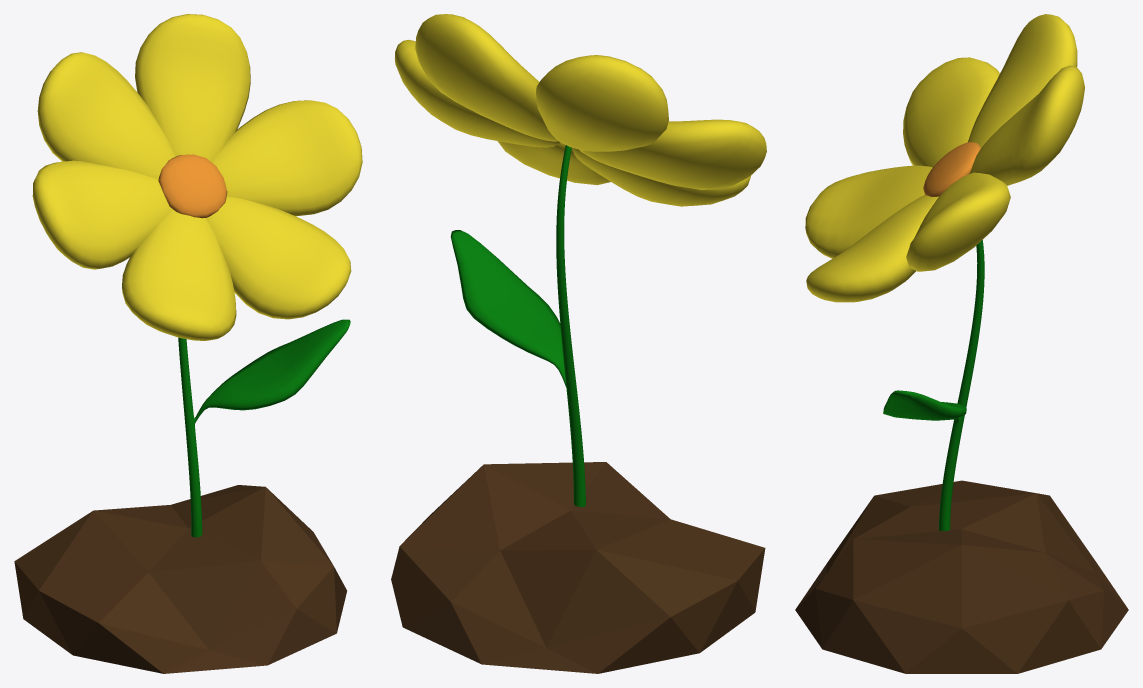
The model's file is ccek.fbx.
3 renders of one model, left to right at view 1: azimuth 30°, elevation 25°; view 2: azimuth 150°, elevation 25°; view 3: azimuth 270°, elevation 25°, orthographic. The views are drawn at different scales.
Visible parts, largest first — view 1: Icosphere, Cube.004, Cube.001, Cube.002, Cube.003, Cube.005, Cube, BezierCurve, Cube.006; view 2: Icosphere, BezierCurve, Cube.003, Cube.001, Cube, Cube.004, Cube.005, Cube.002; view 3: Icosphere, Cube.001, Cube, Cube.005, Cube.002, Cube.004, Cube.003, BezierCurve, Cube.006.
Boxes of the visible parts, x1,y1,x2,y2 form: Icosphere: (14, 485, 346, 673); Cube.004: (212, 100, 362, 216); Cube.001: (135, 14, 250, 162); Cube.002: (206, 196, 351, 319); Cube.003: (37, 52, 175, 179); Cube.005: (122, 209, 236, 340); Cube: (32, 160, 172, 269); BezierCurve: (178, 319, 350, 537); Cube.006: (158, 154, 227, 218); Icosphere: (391, 462, 765, 673); BezierCurve: (450, 145, 585, 506); Cube.003: (536, 55, 668, 151); Cube.001: (415, 14, 558, 141); Cube: (579, 119, 766, 189); Cube.004: (394, 40, 560, 147); Cube.005: (572, 148, 751, 206); Cube.002: (497, 141, 610, 185); Icosphere: (795, 480, 1128, 673); Cube.001: (969, 65, 1084, 185); Cube: (903, 57, 999, 167); Cube.005: (805, 165, 932, 258); Cube.002: (806, 195, 938, 302); Cube.004: (906, 172, 1010, 271); Cube.003: (968, 14, 1077, 147); BezierCurve: (883, 240, 984, 531); Cube.006: (923, 142, 980, 196).
Bounding box in the file's own units: 852 × 748 × 1395.
